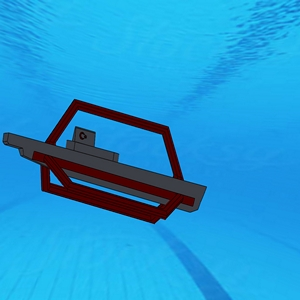submarine: (4, 94, 207, 232)
